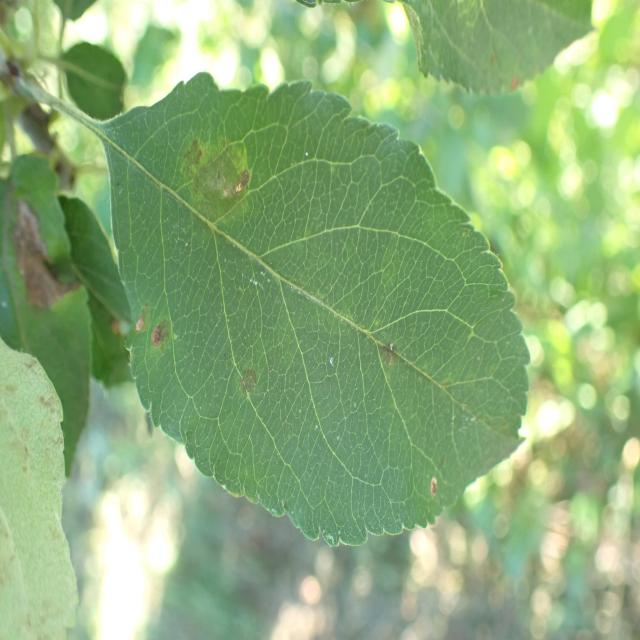frog-eye-leaf-spot: (103, 70, 532, 547)
